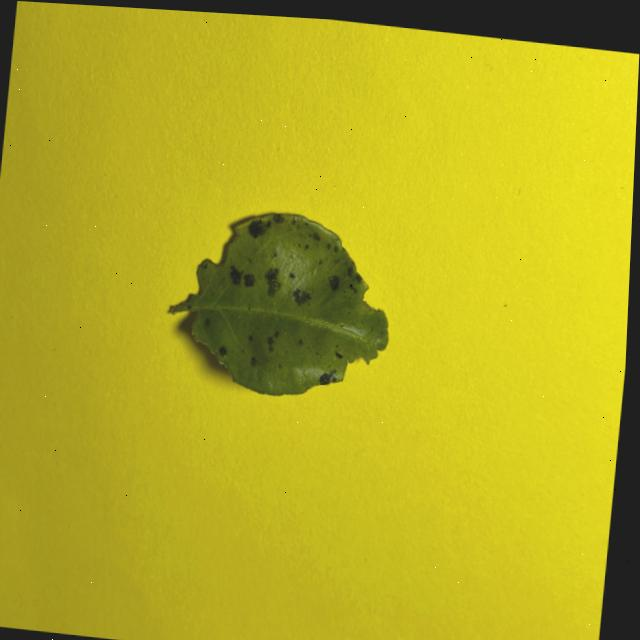sooty_mold: (170, 213, 387, 396)
